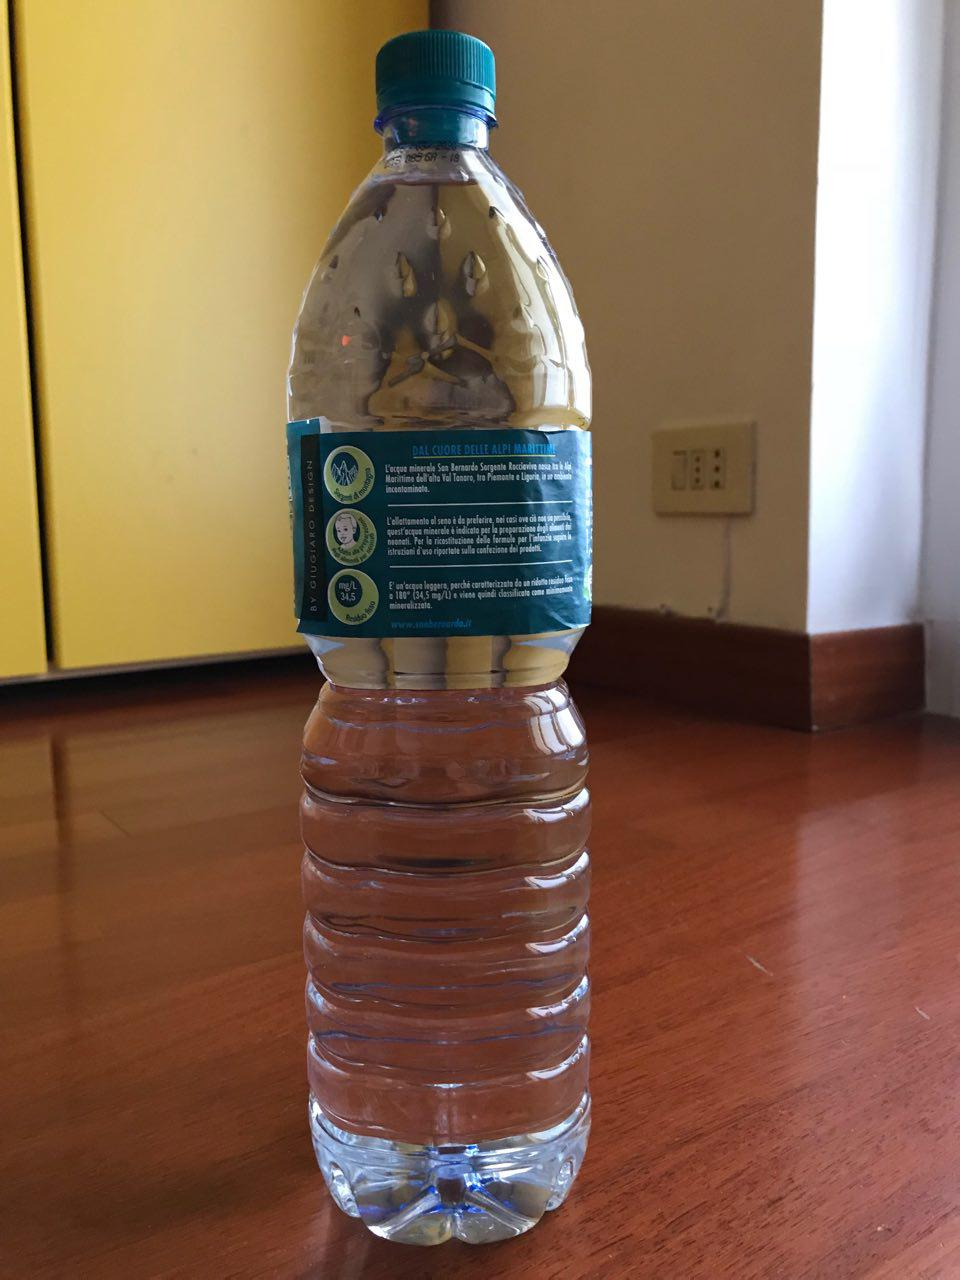san_bernardo: (285, 27, 596, 1248)
